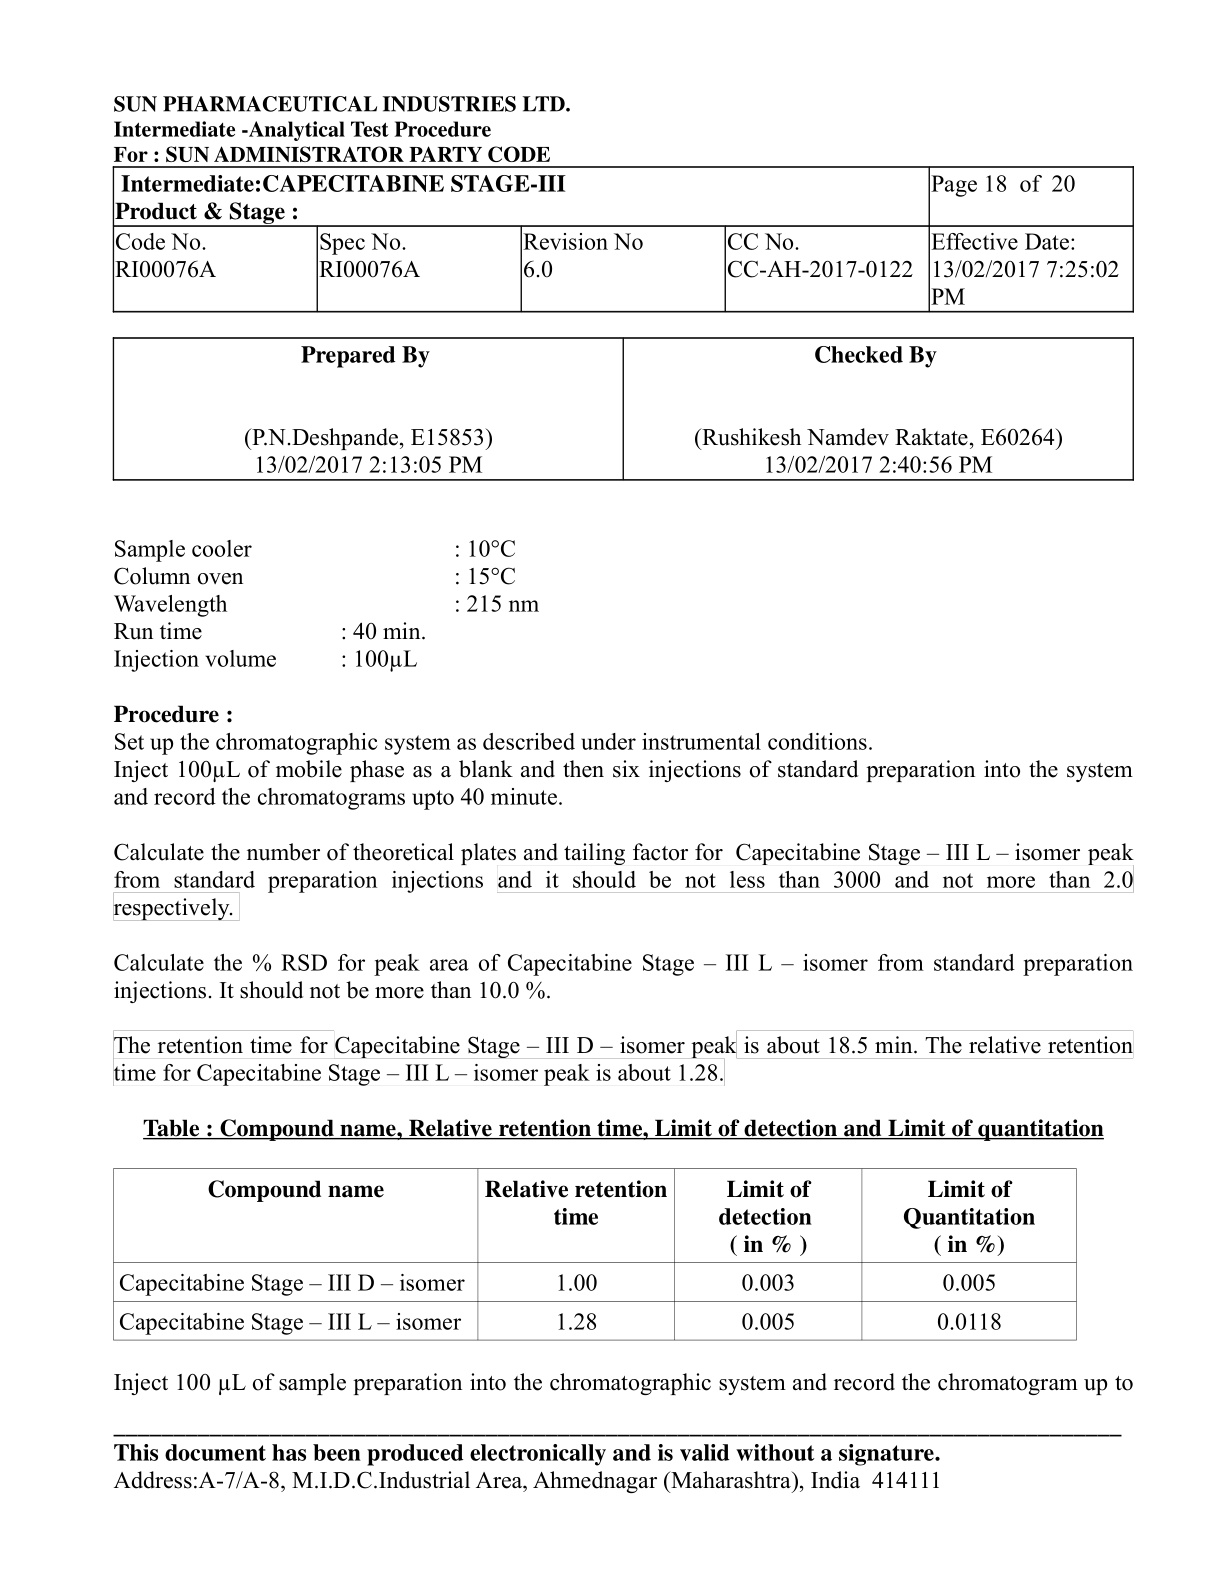full_lined: (112, 1167, 1077, 1342), (112, 336, 1134, 481)
merged_cells: (111, 166, 1135, 314)
nolines: (112, 537, 544, 672)
